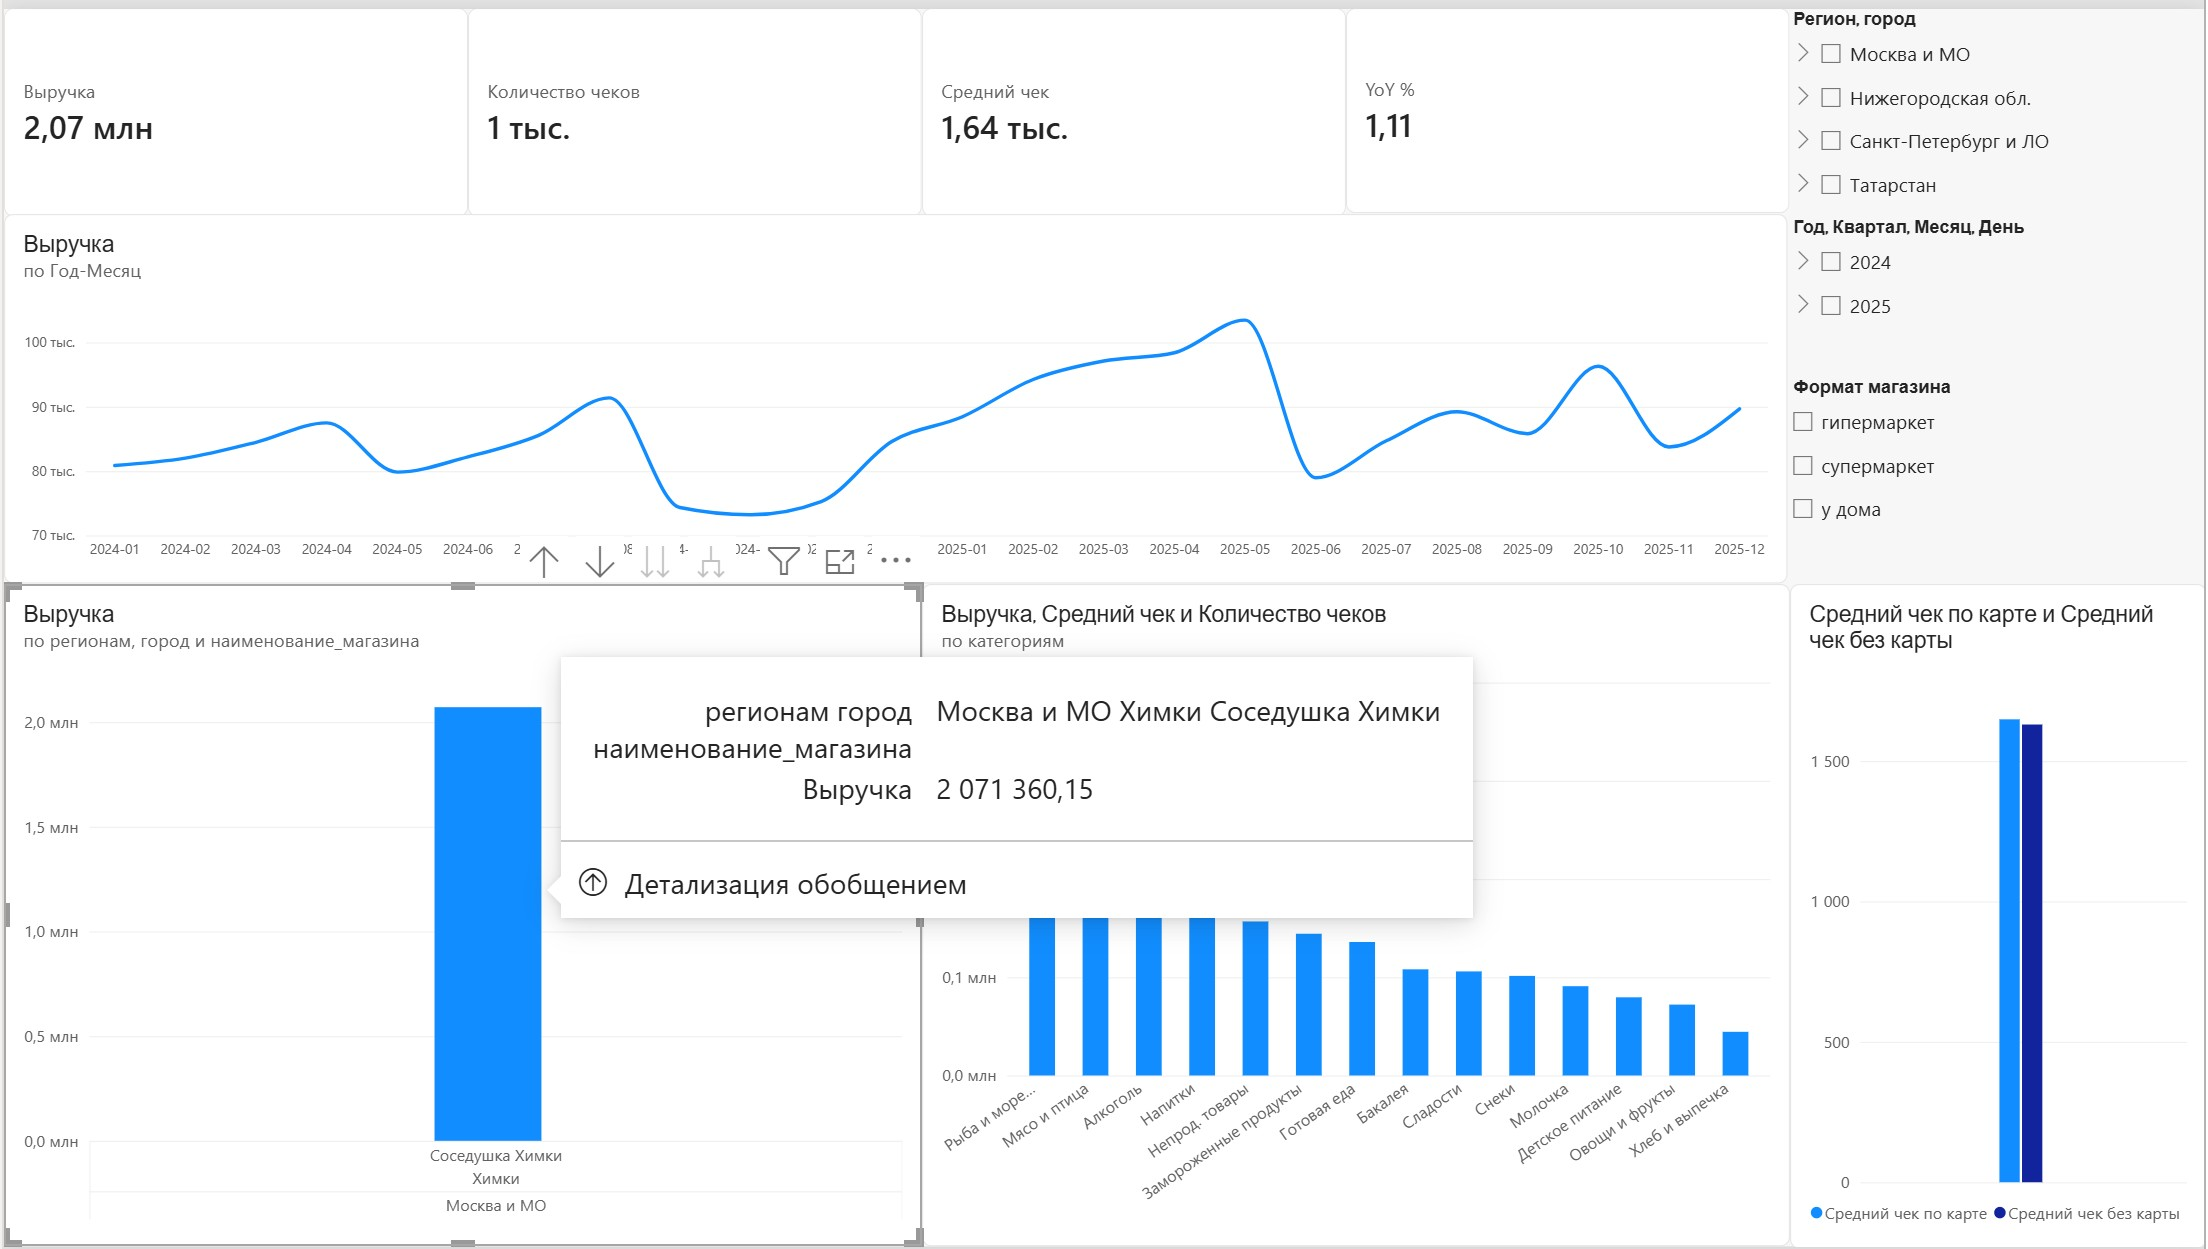

What the dashboard file says about the page in this screenshot:
{"tool":"powerbi","page":{"name":"Страница 1","canvas":[1920,1080],"ordinal":0},"visuals":[{"type":"cardVisual","fields":{"Data":["fact_sales.Выручка"]},"box":[0,0,405,182],"z":0},{"type":"cardVisual","fields":{"Data":["fact_sales.Количество чеков"]},"box":[405,0,396,182],"z":1},{"type":"cardVisual","fields":{"Data":["fact_sales.Средний чек"]},"box":[801,0,370,182],"z":2},{"type":"cardVisual","fields":{"Data":["fact_sales.YoY %"]},"box":[1171,0,387.5,179.7],"z":3},{"type":"lineChart","fields":{"Category":["dim_calendar.Год-Месяц"],"Y":["fact_sales.Выручка"]},"box":[0,179.7,1556.3,322.5],"z":4},{"type":"clusteredColumnChart","fields":{"Category":["dim_stores.регион","dim_stores.город","dim_stores.наименование_магазина"],"Y":["fact_sales.Выручка"]},"box":[0,502.2,800.9,577.9],"z":5},{"type":"columnChart","fields":{"Category":["dim_products.категория"],"Y":["fact_sales.Выручка"]},"box":[800.9,502.2,757.6,577.9],"z":8},{"type":"clusteredColumnChart","fields":{"Y":["fact_sales.Средний чек по карте","fact_sales.Средний чек без карты"]},"box":[1558.5,502.2,363.7,580.1],"z":9},{"type":"slicer","fields":{"Values":["dim_stores.регион","dim_stores.город"]},"box":[1554.2,0,365.8,181.8],"z":10},{"type":"slicer","fields":{"Values":["fact_sales.дата_время.Variation.Иерархия дат.Год","fact_sales.дата_время.Variation.Иерархия дат.Квартал","fact_sales.дата_время.Variation.Иерархия дат.Месяц","fact_sales.дата_время.Variation.Иерархия дат.День"]},"box":[1554.2,181.8,365.8,140.7],"z":11},{"type":"slicer","fields":{"Values":["dim_stores.формат_магазина"]},"box":[1554.2,320.4,365.8,181.8],"z":12}]}

Visuals, with their boxes on the page's 1920x1080 design canvas (x1, y1, x2, y2). These are canvas units, not pixel positions in the 2208x1249 screenshot, which may show the page scaled, cropped or inside an application window:
cardVisual - fact_sales.Выручка: region(0, 0, 405, 182)
cardVisual - fact_sales.Количество чеков: region(405, 0, 801, 182)
cardVisual - fact_sales.Средний чек: region(801, 0, 1171, 182)
cardVisual - fact_sales.YoY %: region(1171, 0, 1558, 180)
lineChart - dim_calendar.Год-Месяц x fact_sales.Выручка: region(0, 180, 1556, 502)
clusteredColumnChart - dim_stores.регион x dim_stores.город: region(0, 502, 801, 1080)
columnChart - dim_products.категория x fact_sales.Выручка: region(801, 502, 1558, 1080)
clusteredColumnChart - fact_sales.Средний чек по карте x fact_sales.Средний чек без карты: region(1558, 502, 1922, 1082)
slicer - dim_stores.регион x dim_stores.город: region(1554, 0, 1920, 182)
slicer - fact_sales.дата_время.Variation.Иерархия дат.Год x fact_sales.дата_время.Variation.Иерархия дат.Квартал: region(1554, 182, 1920, 322)
slicer - dim_stores.формат_магазина: region(1554, 320, 1920, 502)
